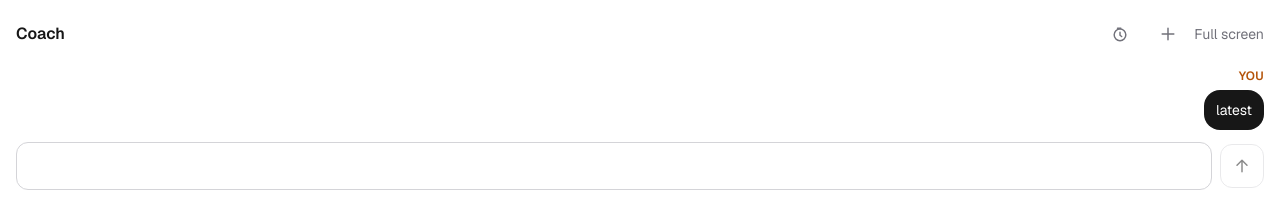
Test: agent chrome › starts a new chat without a request and points Full screen at a fresh draft
Expected: the text "Build me a program" is not shown
Click the button named "New chat" at (1168, 34), box [1146,12,1190,56]
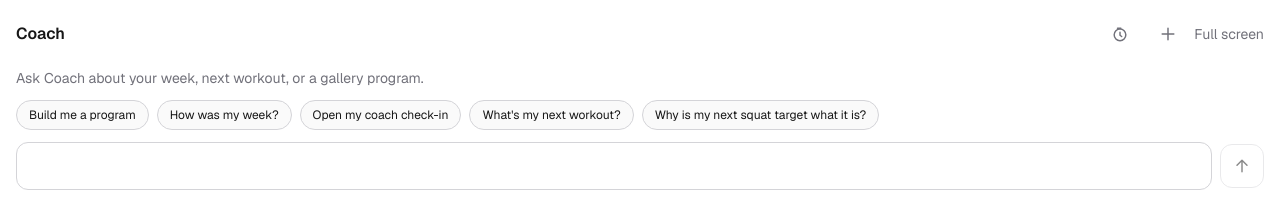
Expected: the text "Build me a program" is shown, [16,100,149,130]
